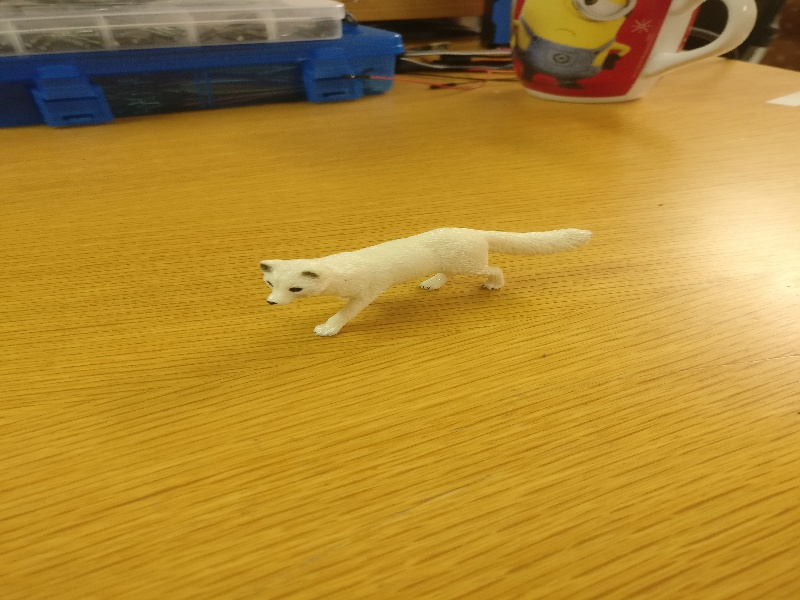toy: (252, 207, 599, 351)
